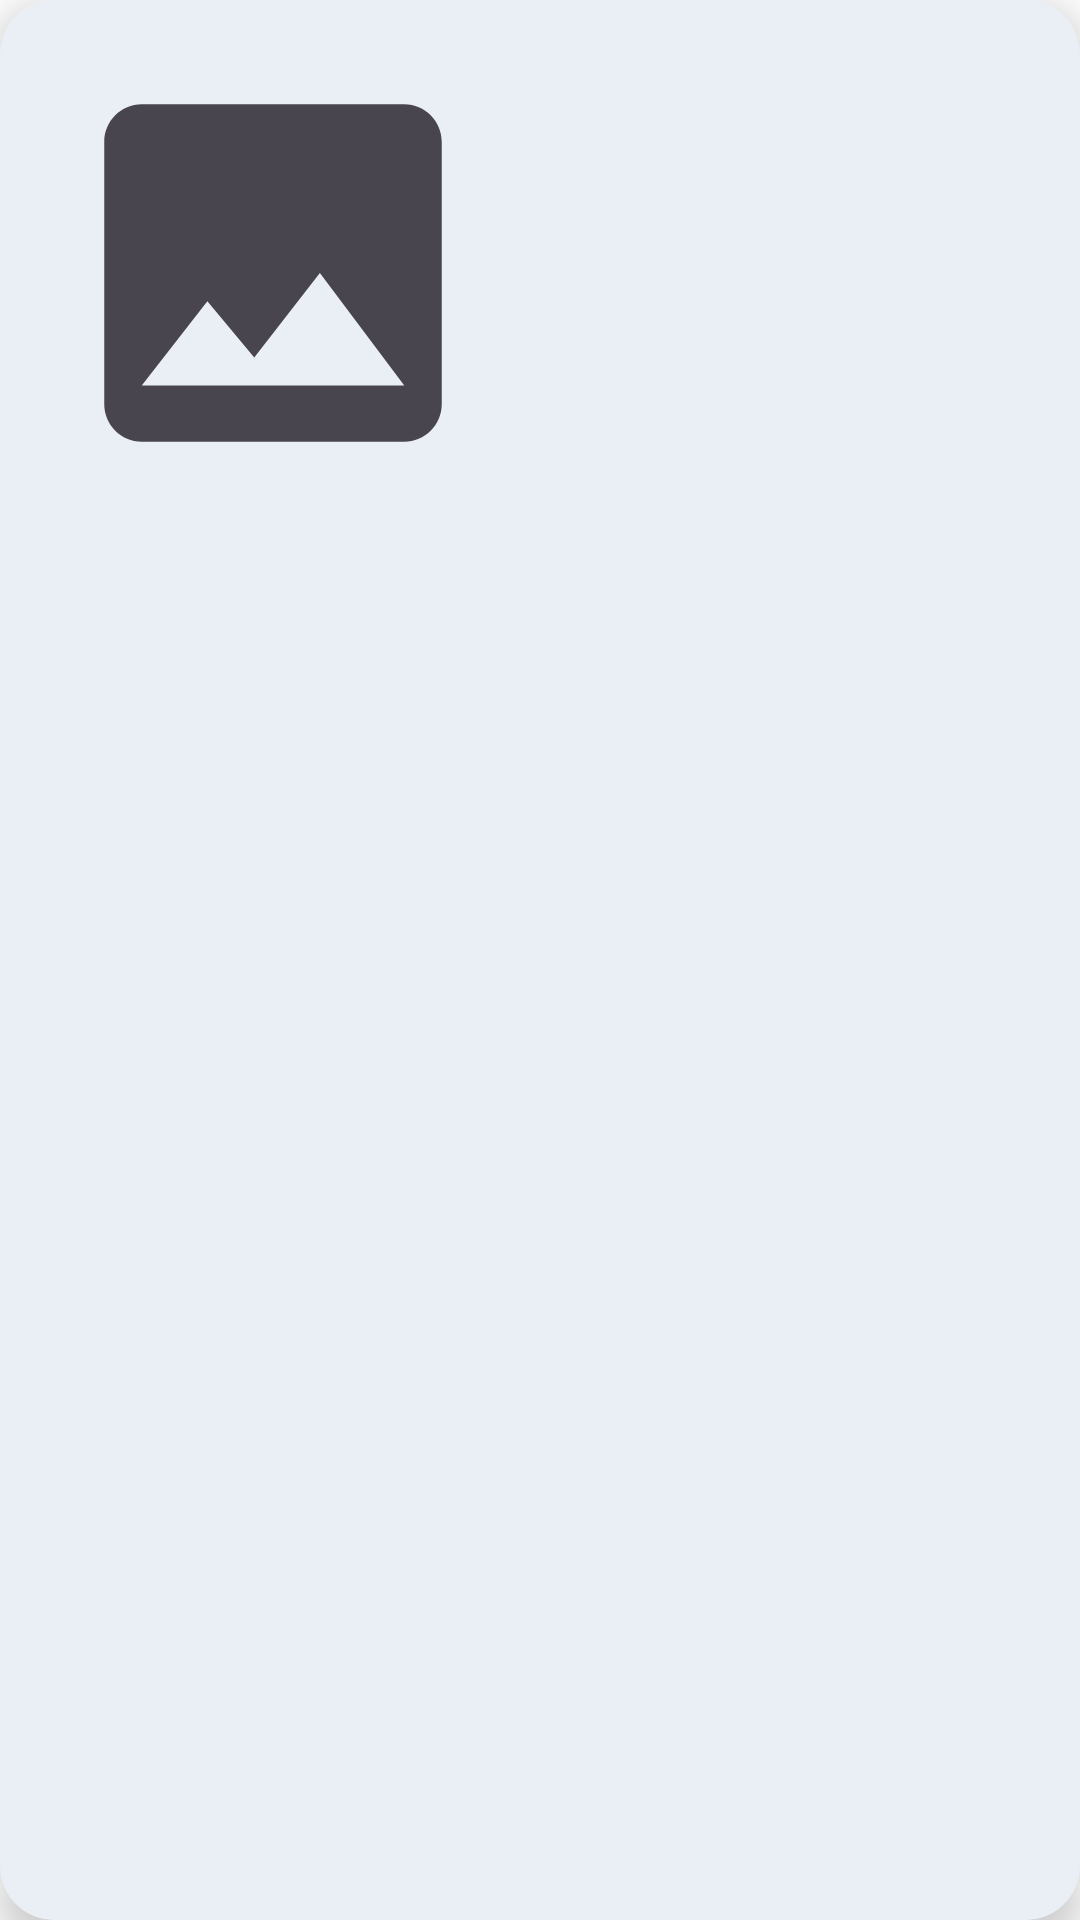

Screen size 1080px×1920px. Icon name, then its center in pixels as (x=x, y=y):
place holder for pict news: (x=273, y=273)
